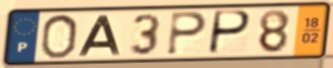3: (128, 13, 162, 57)
8: (257, 8, 291, 55)
A: (76, 14, 123, 57)
O: (38, 13, 80, 60)
P: (206, 9, 253, 57), (165, 10, 210, 57)
